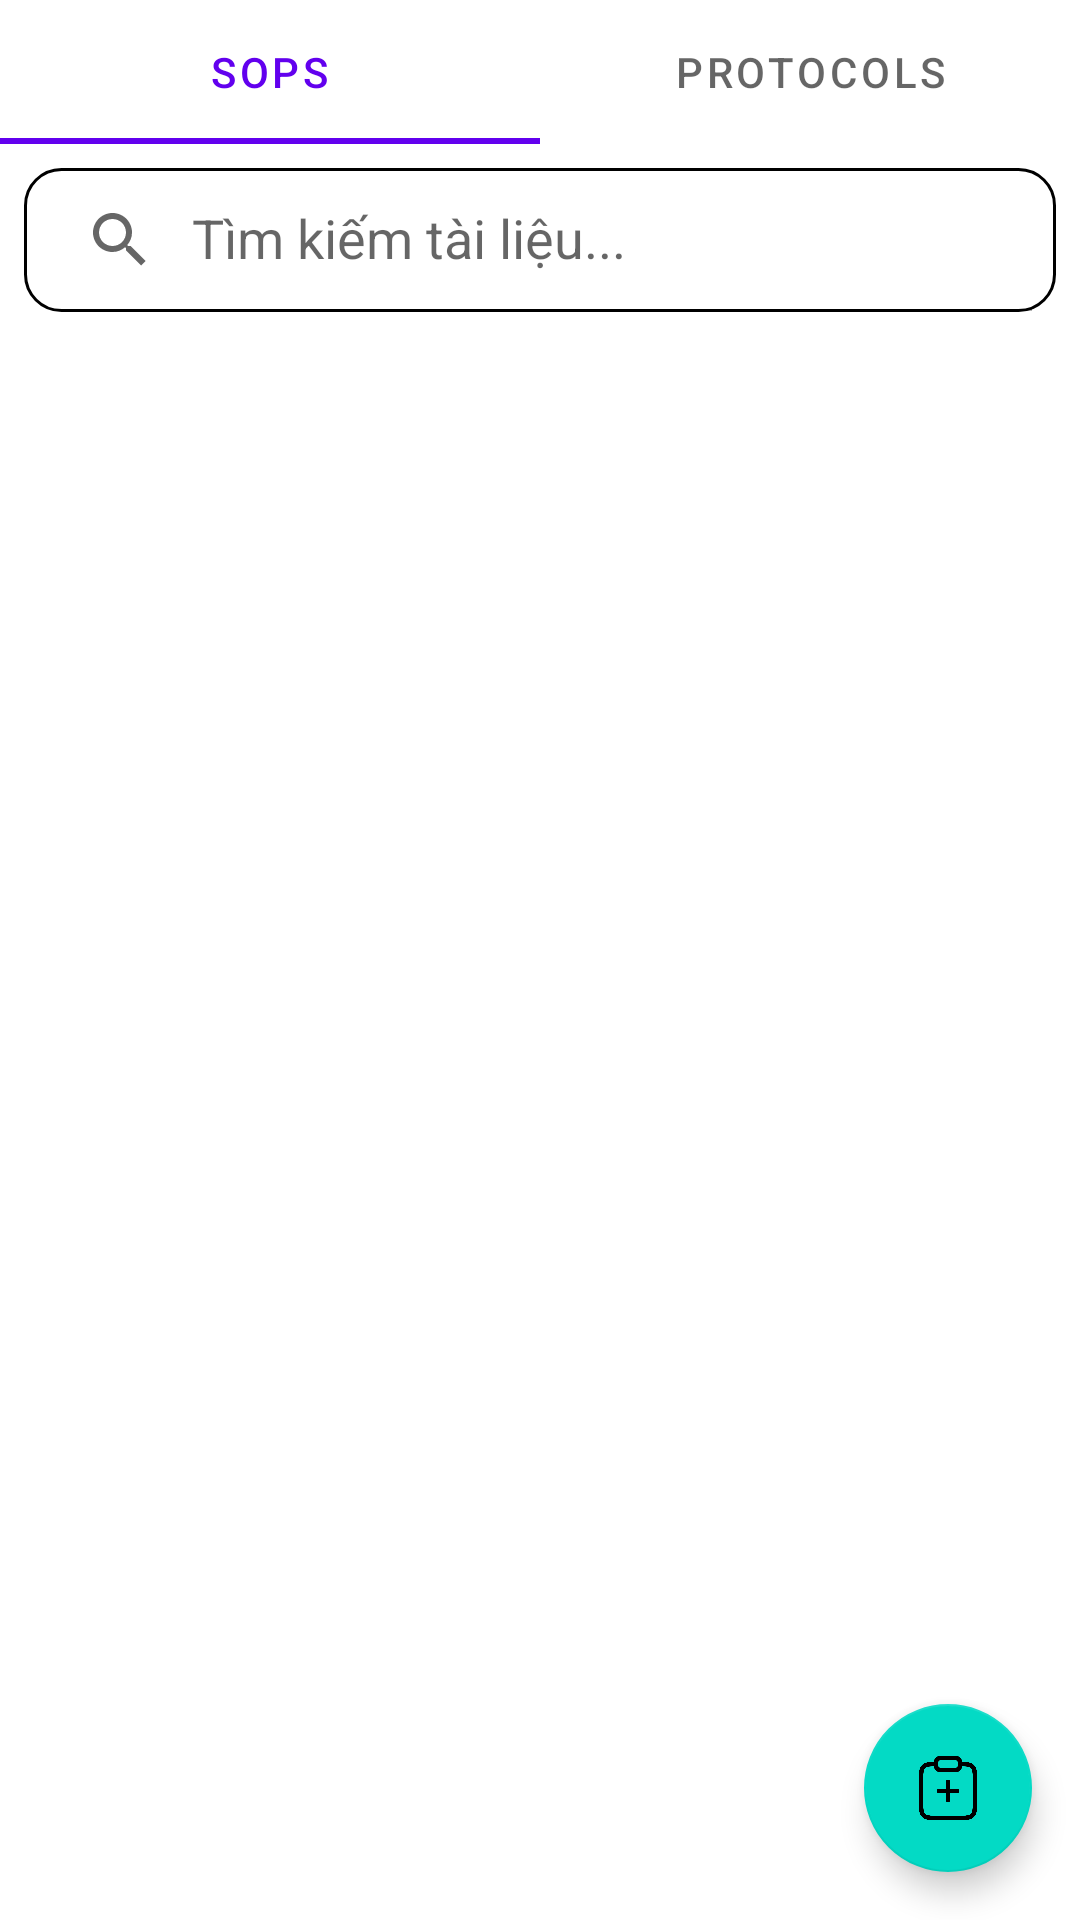

Icons on this 1080×1920 Android screen, each with the point to tap as (x,y):
Thêm tài liệu mới: (948,1788)
